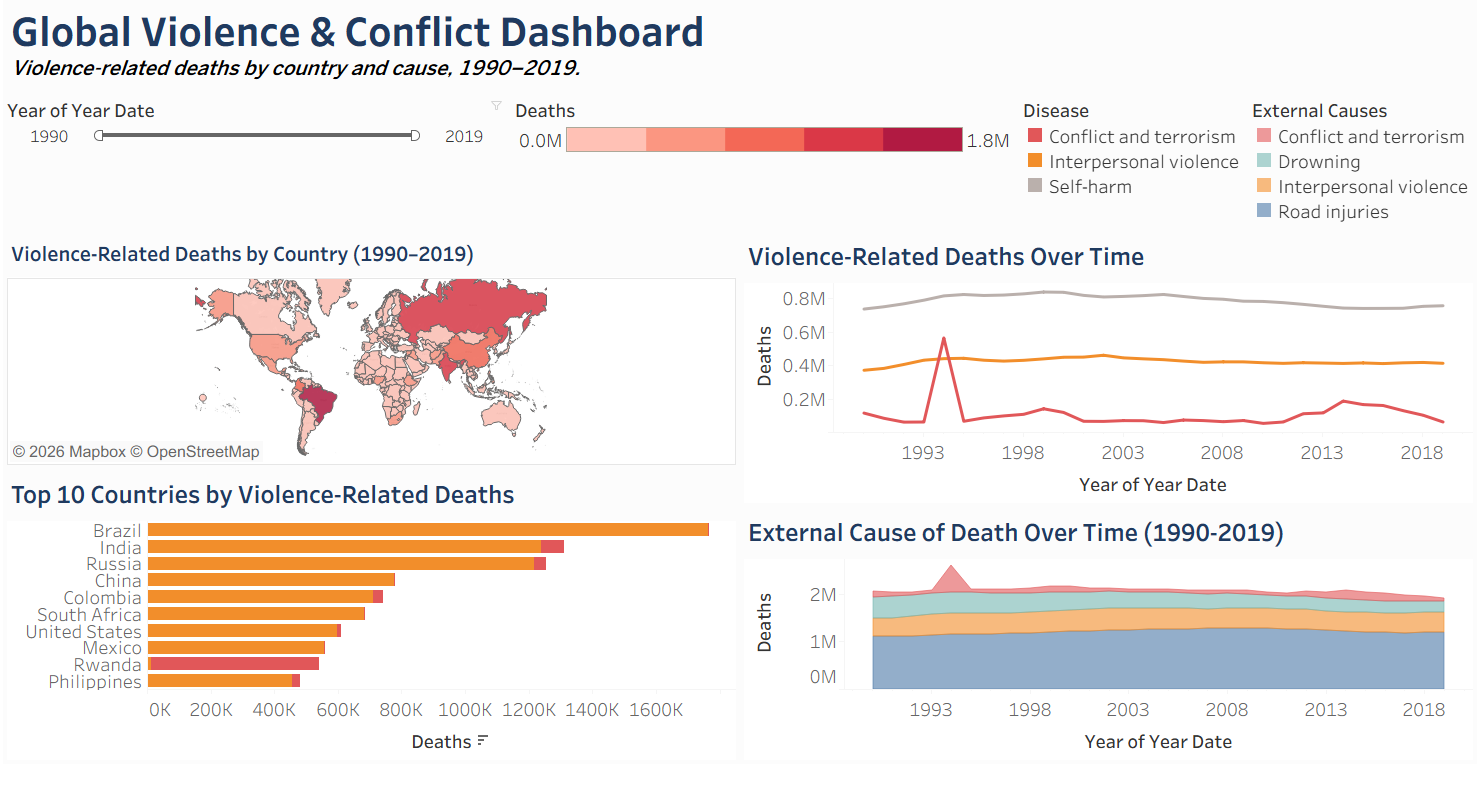

Layout of this report page (visuals, bound fields, positions):
{"tool":"tableau","page":{"name":"Global Violence & Conflict Dashboard","canvas":[1500,800],"ordinal":2},"visuals":[{"type":"title","box":[13,13,1474,103]},{"type":"filter","title":"Violence Trend ","param":"[federated.11086hz0ax1jhq1e8ujbg08lxq0k].[tyr:Calculation_0750476188205057:qk]","box":[13,116,508,138]},{"type":"legend","title":"Violence Map","param":"[federated.11086hz0ax1jhq1e8ujbg08lxq0k].[sum:Pivot Field Values:qk]","box":[521,116,508,138]},{"type":"legend","title":"Violence Trend ","param":"[federated.11086hz0ax1jhq1e8ujbg08lxq0k].[none:Calculation_0750476186587136:nk]","box":[1029,116,229,138]},{"type":"legend","title":"External Causes Breakdown","param":"[federated.11086hz0ax1jhq1e8ujbg08lxq0k].[none:Calculation_0750476186587136:nk]","box":[1258,116,229,138]},{"type":"worksheet","title":"Violence Map","mark":"Multipolygon","box":[13,254,736.9,238.4]},{"type":"worksheet","title":"Violence Trend ","mark":"Automatic","rows":["Pivot Field Values"],"cols":["Calculation_0750476188205057"],"box":[750,254,737,276.2]},{"type":"worksheet","title":"Top Violence Countries","mark":"Automatic","rows":["Entity"],"cols":["Pivot Field Values"],"box":[13,492.4,736.9,294.6]},{"type":"worksheet","title":"External Causes Breakdown","mark":"Area","rows":["Pivot Field Values"],"cols":["Calculation_0750476188205057"],"box":[750,530.2,737,256.8]}]}

Visuals, with their boxes in screenshot pixels (x1, y1, x2, y2), scaled from the page's 1500x800 canvas onto the 1477x796 screenshot:
title: box=[13, 13, 1464, 115]
"Violence Trend " filter: box=[13, 115, 513, 253]
"Violence Map" legend: box=[513, 115, 1013, 253]
"Violence Trend " legend: box=[1013, 115, 1239, 253]
"External Causes Breakdown" legend: box=[1239, 115, 1464, 253]
"Violence Map" worksheet (Multipolygon marks): box=[13, 253, 738, 490]
"Violence Trend " worksheet: box=[738, 253, 1464, 528]
"Top Violence Countries" worksheet: box=[13, 490, 738, 783]
"External Causes Breakdown" worksheet (Area marks): box=[738, 528, 1464, 783]
